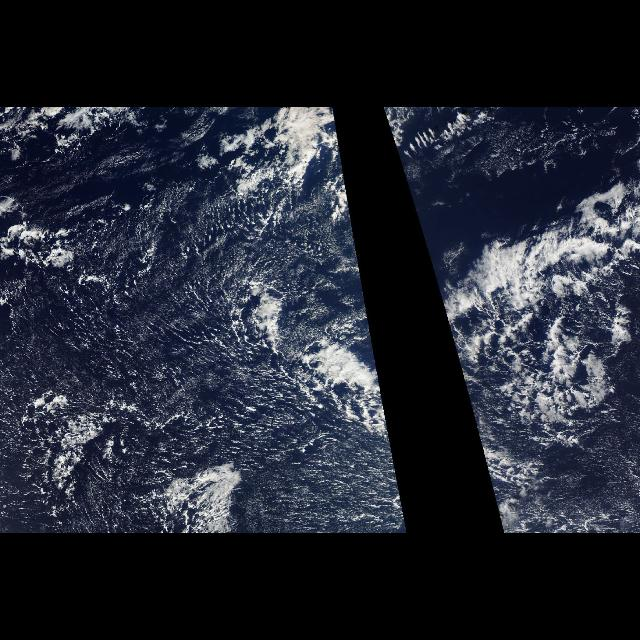Gravel: (12, 201, 390, 533), (448, 238, 640, 458)
Sugar: (154, 382, 406, 528), (21, 272, 206, 362)
